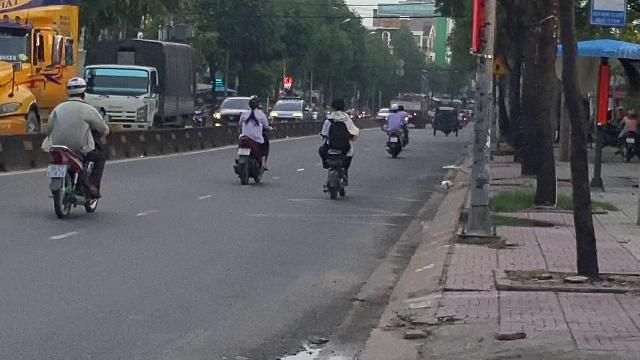helmet: (65, 76, 87, 100)
licenseplate: (48, 164, 66, 178)
motorcyclist: (42, 75, 108, 219)
